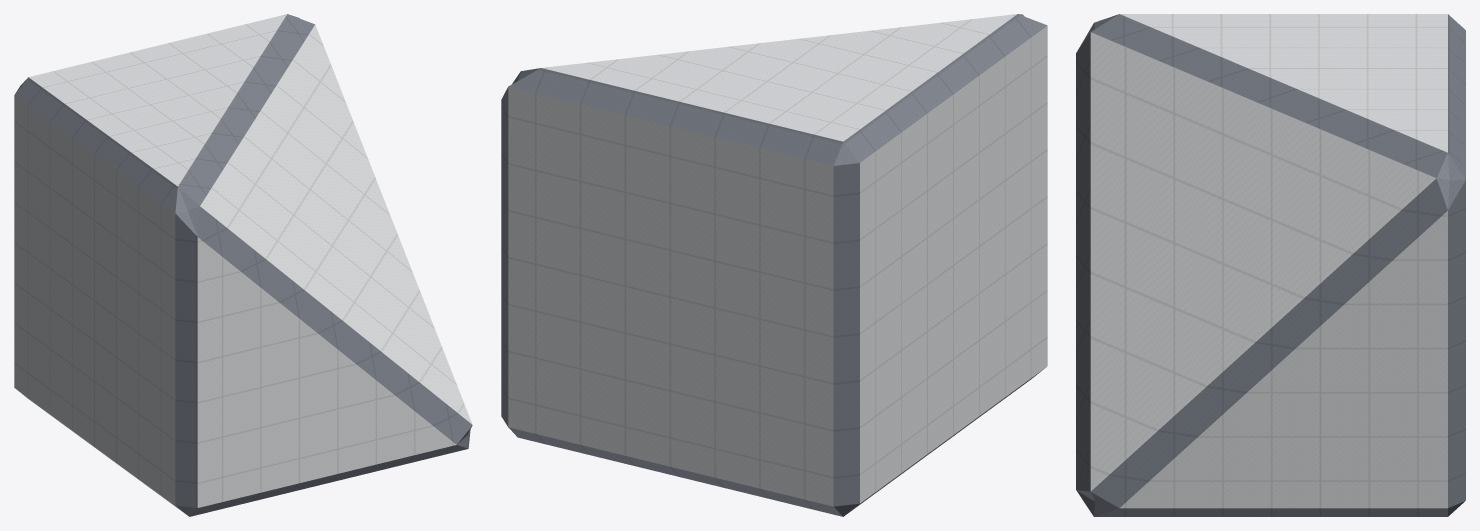
File: R4B_InnerCorner_LOD1.glb
3 views of the same model, side by side, from view 1: azimuth 30°, elevation 25°; view 2: azimuth 150°, elevation 25°; view 3: azimuth 270°, elevation 25° (orthographic). The views are drawn at different scales.
Parts seen in each view (by area): view 1: R4B_InnerCorner_LOD1; view 2: R4B_InnerCorner_LOD1; view 3: R4B_InnerCorner_LOD1.
Boxes of the visible parts, x1,y1,x2,y2 form: R4B_InnerCorner_LOD1: (14, 14, 472, 516); R4B_InnerCorner_LOD1: (501, 14, 1047, 516); R4B_InnerCorner_LOD1: (1076, 14, 1465, 516).
Size of the model in its own units: 0.52 by 0.52 by 0.52.
Materials: 2 (2 with a texture image).
